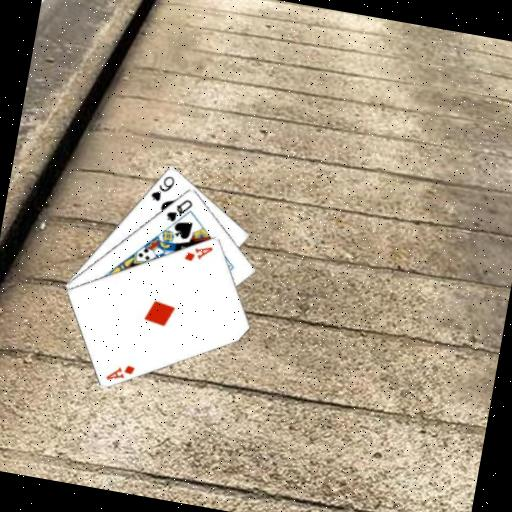9S: (146, 169, 177, 204)
AD: (180, 239, 215, 266), (102, 358, 137, 385)
QS: (162, 192, 194, 225)
